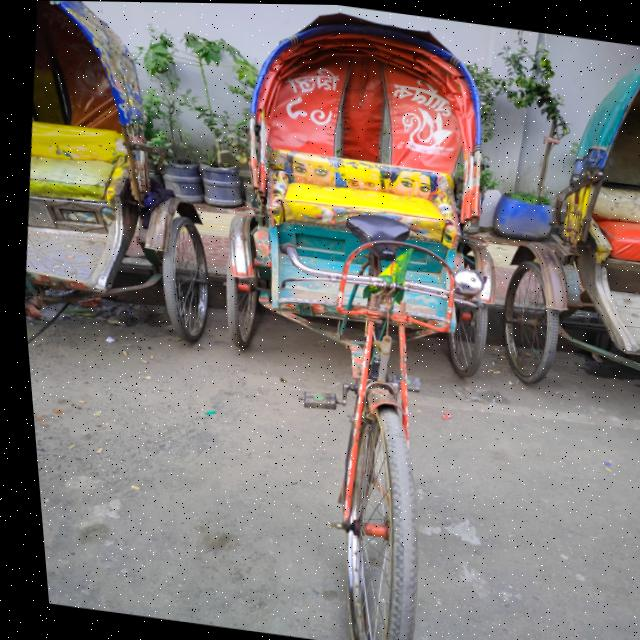rikshaw: (133, 2, 580, 640)
